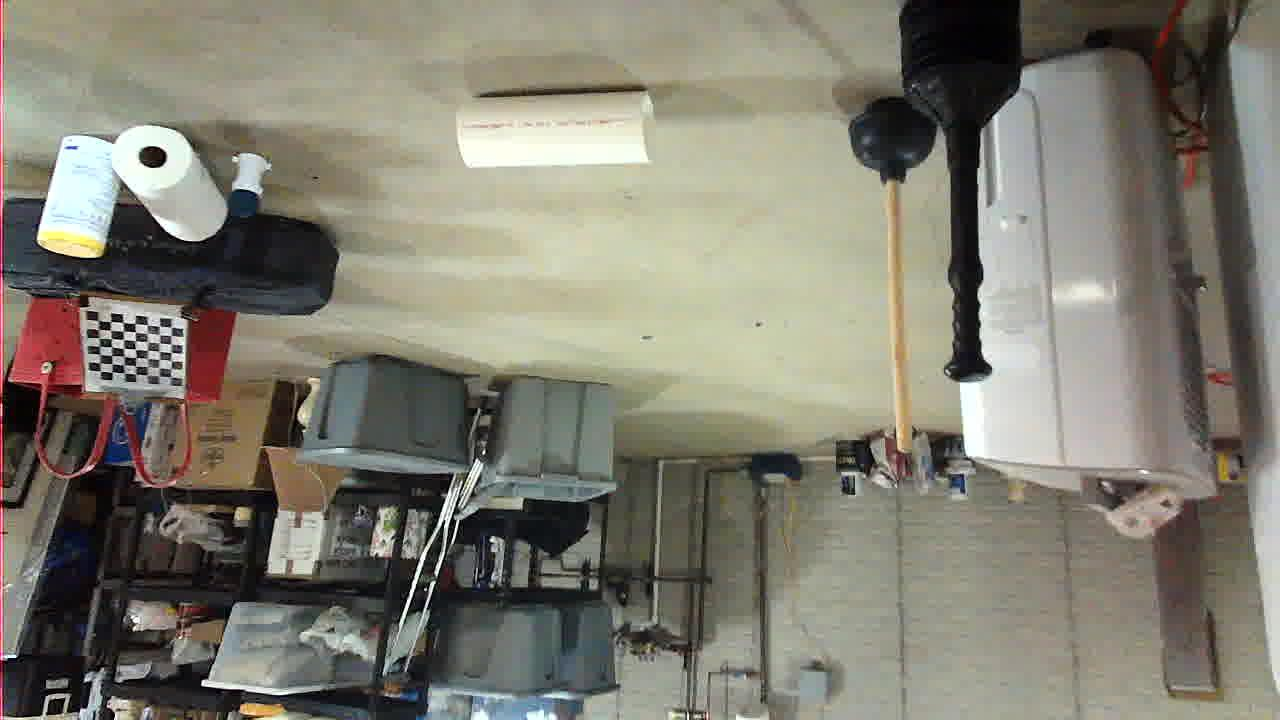coral: (626, 550, 825, 634)
